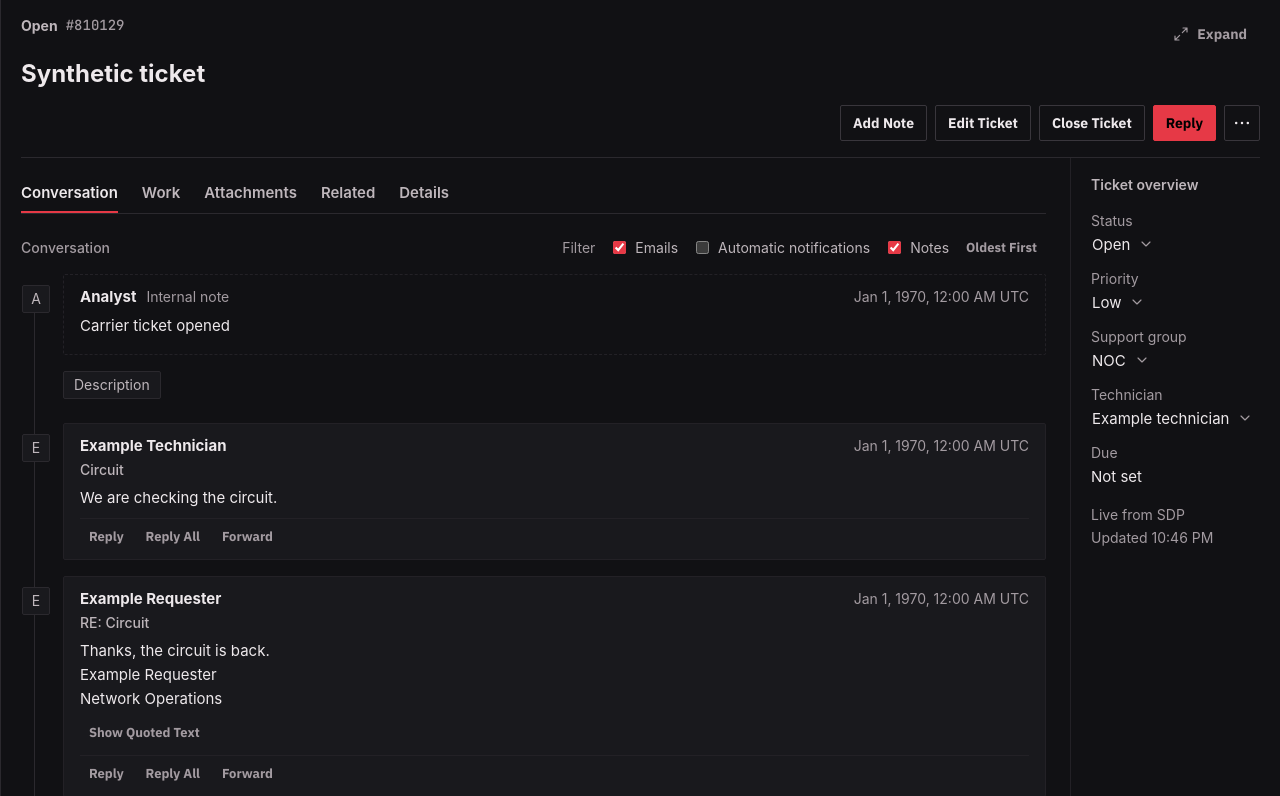
keeps the ticket CC list for Reply All
Click the button with aria-label "Reply all to email from Example Requester": (173, 774) x1=137 y1=760 x2=209 y2=788
(page scrolled)
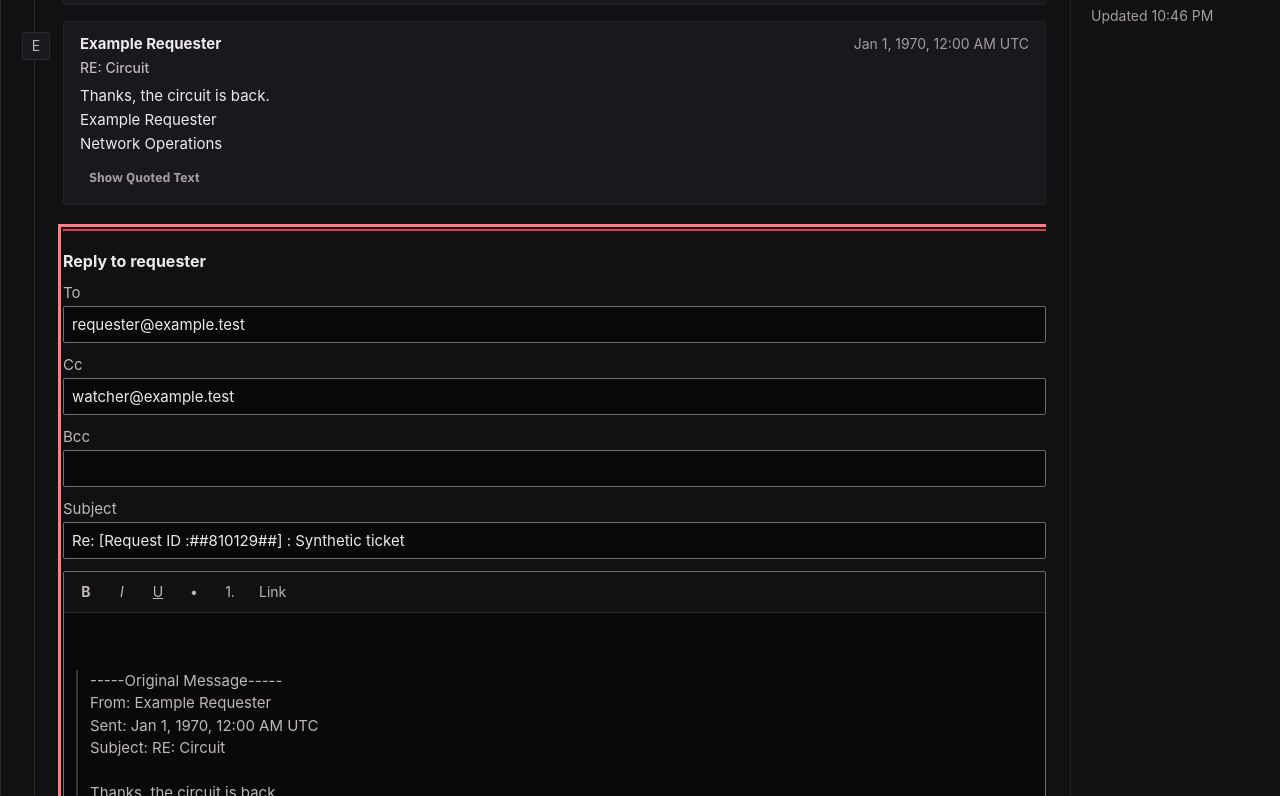
Result: the dropdown labelled "Cc" holds "watcher@example.test" at x1=63 y1=378 x2=1046 y2=415
